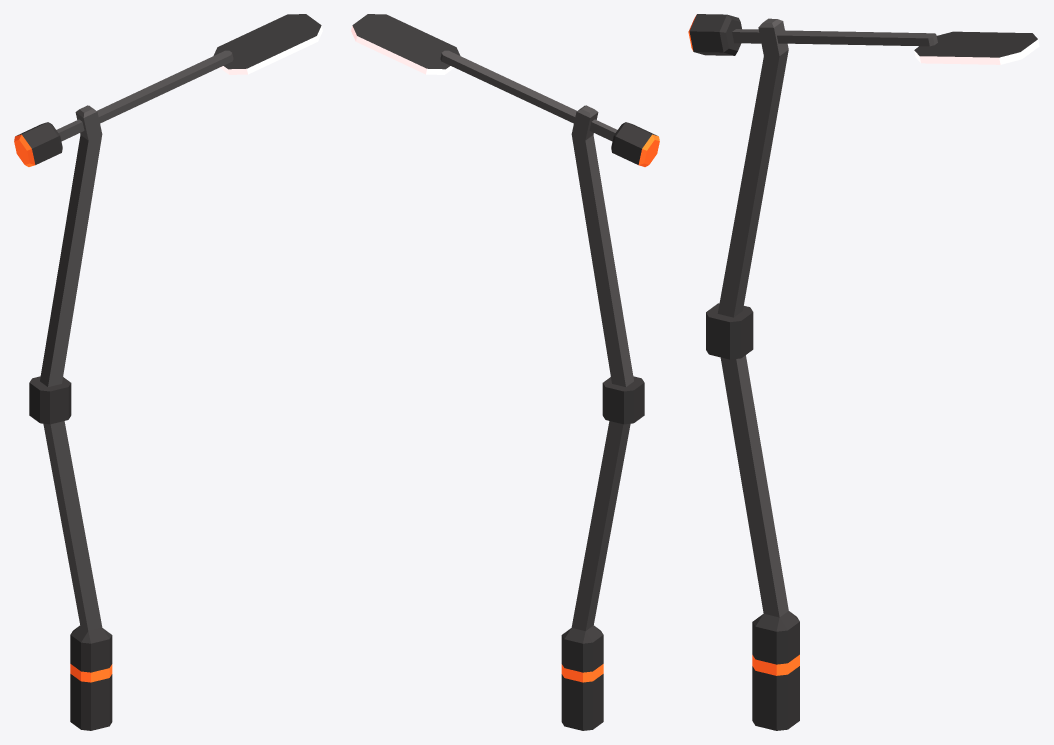
Rendered from scifi_scifi-lamp-road.fbx.
The picture shows the model from 3 angles, left to right: view 1: azimuth 30°, elevation 25°; view 2: azimuth 150°, elevation 25°; view 3: azimuth 330°, elevation 25°; orthographic projection. The views are drawn at different scales.
Parts seen in each view (by area): view 1: scifi_scifi_lamp_road; view 2: scifi_scifi_lamp_road; view 3: scifi_scifi_lamp_road.
Boxes of the visible parts, <box> form: scifi_scifi_lamp_road: <box>14,14,322,730</box>; scifi_scifi_lamp_road: <box>351,14,659,730</box>; scifi_scifi_lamp_road: <box>688,14,1039,730</box>.
Bounding box in the file's own units: 95.57 × 200 × 16.47.
